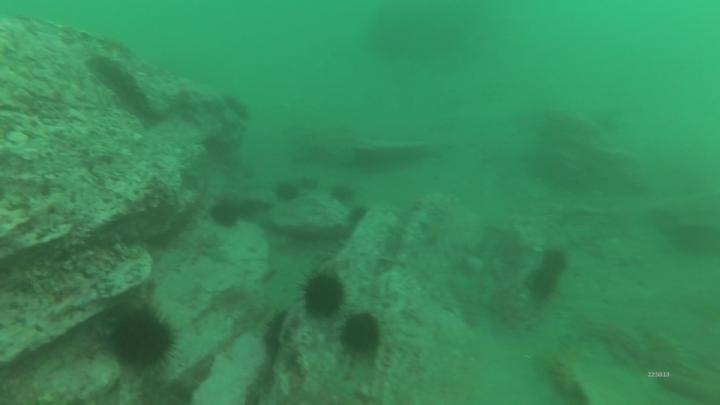echinus: (107, 309, 181, 375), (297, 269, 350, 322), (338, 311, 385, 362), (207, 200, 244, 231), (525, 270, 557, 303), (540, 247, 569, 281), (264, 312, 288, 351), (272, 181, 302, 207), (330, 182, 357, 208), (347, 202, 372, 228), (294, 174, 322, 194)
